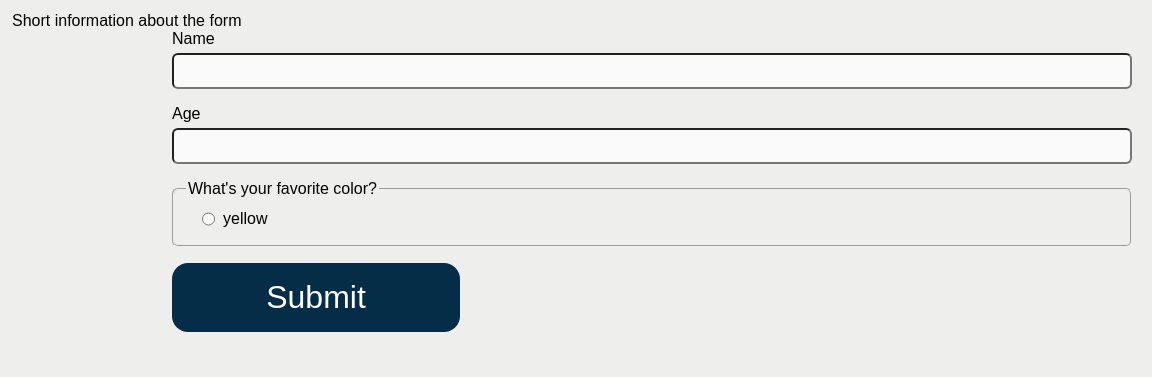
Scenario: Form › when the user submits the form › with errors › the error message is shown
The width and height of the screenshot is (1152, 377).
Type "Martin Starr" into the field labelled "Name" at (652,71), box [172,53,1132,89]
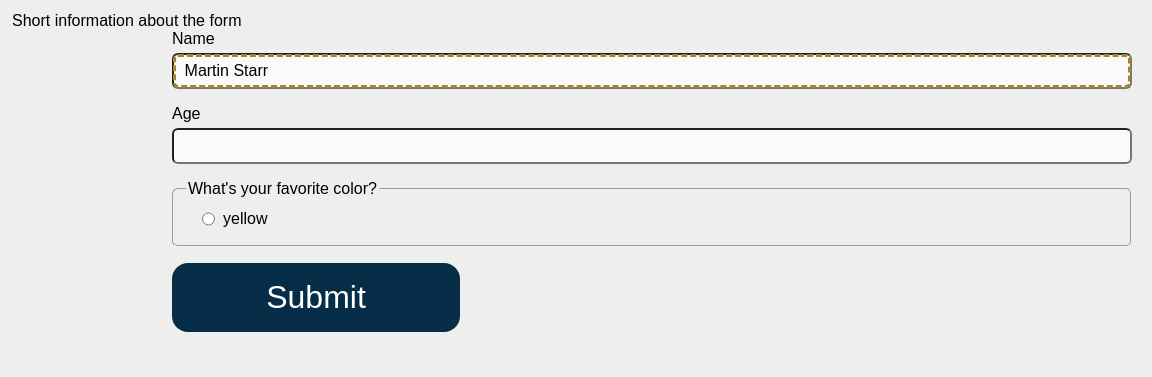
Type "47" into the field labelled "Age" at (652,146), box [172,128,1132,164]
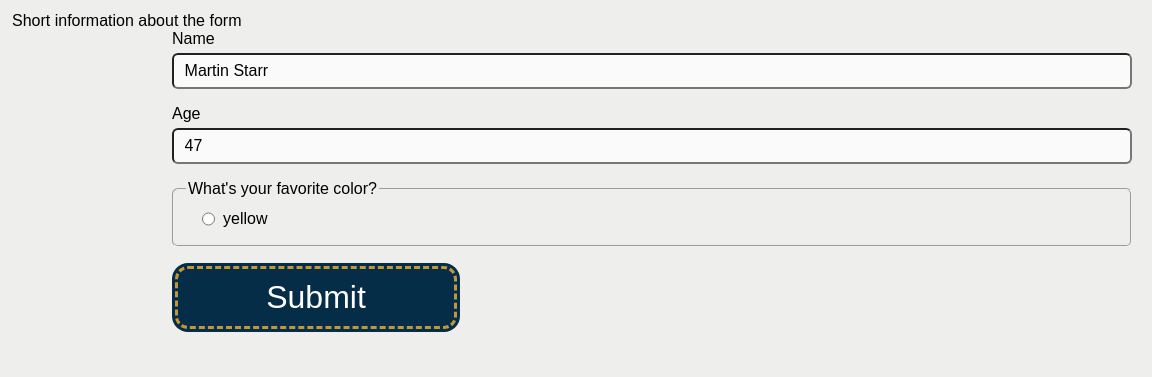
Press Enter
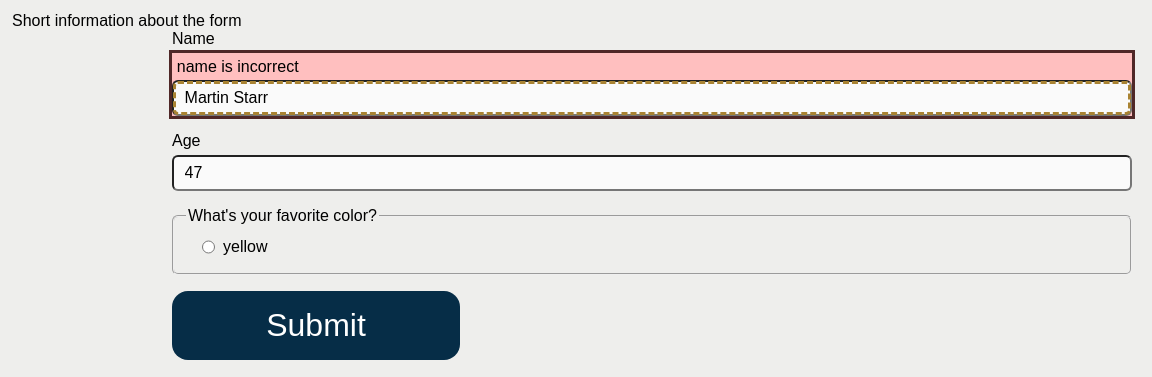
expect the text "name is incorrect" is shown: met, box [177,58,299,75]
